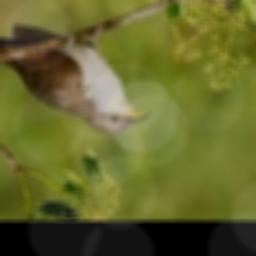Cuckoo: (0, 26, 151, 135)
